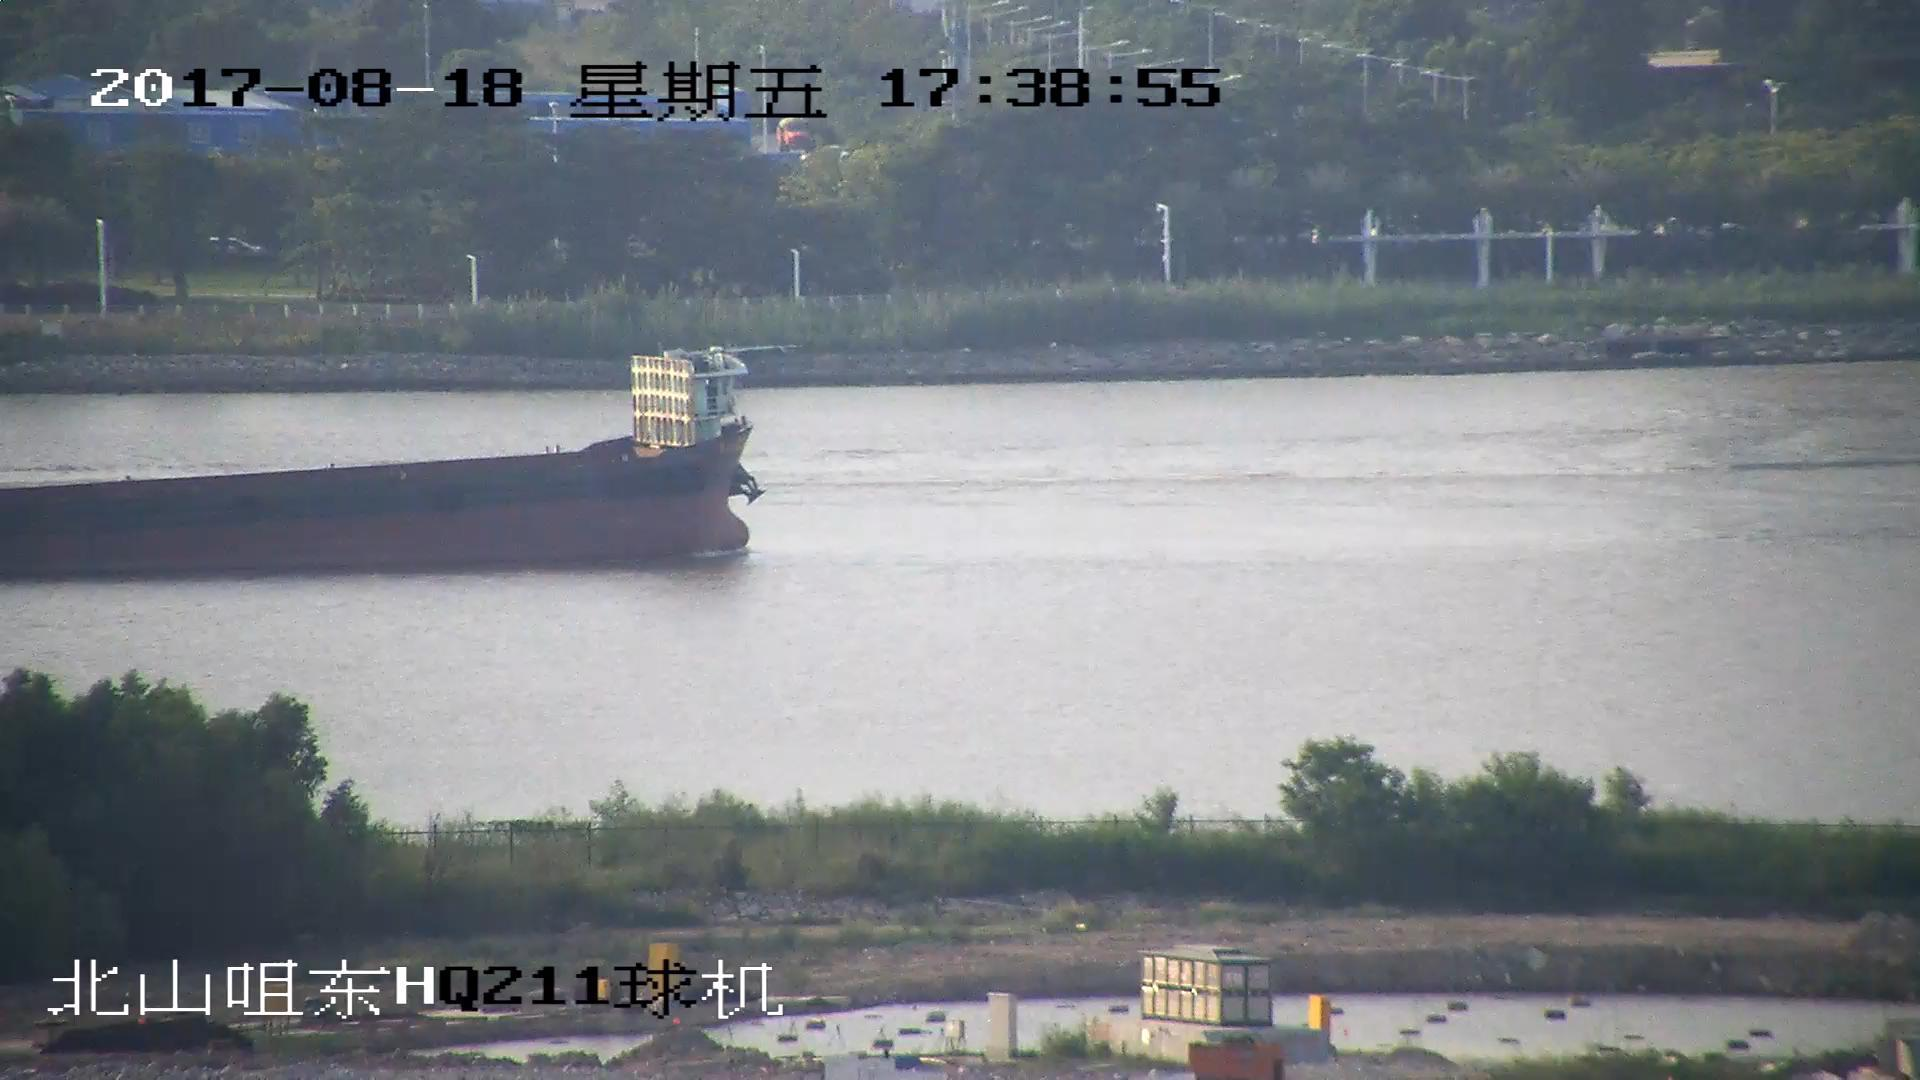Ship: (3, 345, 770, 560)
